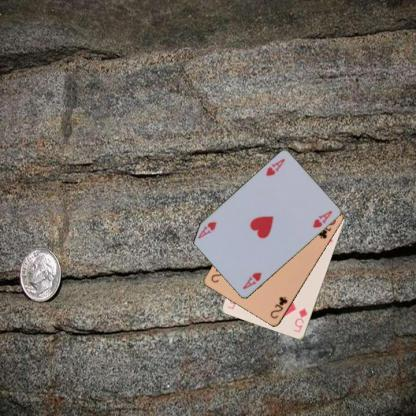2c: (267, 294, 289, 320)
5d: (290, 306, 309, 335)
Ah: (263, 156, 286, 179), (240, 270, 263, 290)
